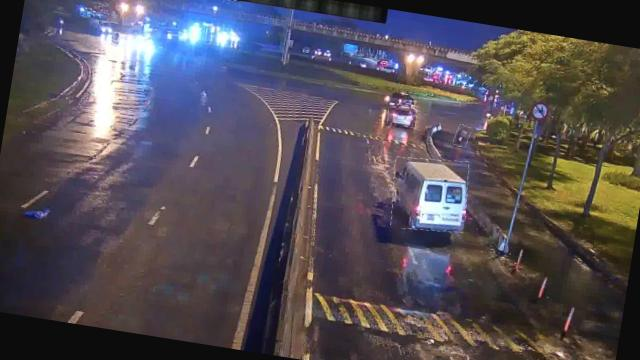Bike: (454, 124, 472, 148)
Bus: (387, 152, 473, 236)
Car: (387, 102, 418, 128)
